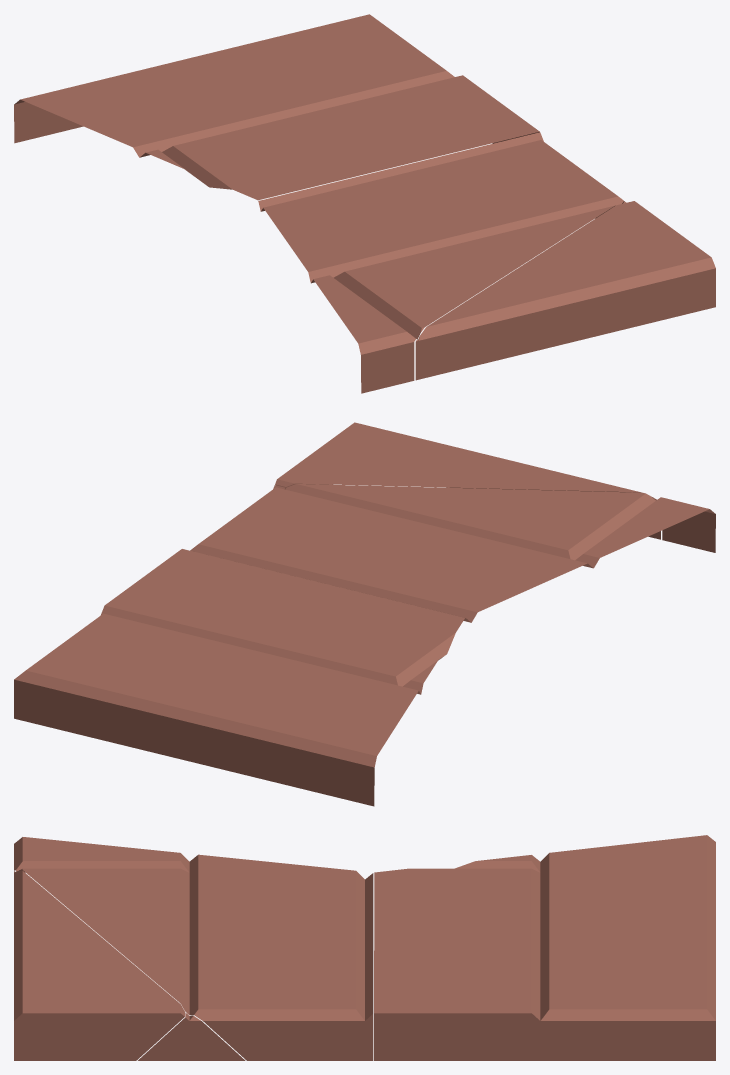
File: floor crack.fbx
3 views of the same model, one above another, from view 1: azimuth 30°, elevation 25°; view 2: azimuth 150°, elevation 25°; view 3: azimuth 270°, elevation 25° (orthographic). The views are drawn at different scales.
Parts seen in each view (by area): view 1: floor_wood_small_cell.002, floor_wood_small_cell.001, floor_wood_small_cell; view 2: floor_wood_small_cell.002, floor_wood_small_cell.001, floor_wood_small_cell; view 3: floor_wood_small_cell.002, floor_wood_small_cell.001, floor_wood_small_cell, floor_wood_small_cell.004.
Boxes of the visible parts, x1,y1,x2,y2 form: floor_wood_small_cell.002: [14, 14, 539, 200]; floor_wood_small_cell.001: [258, 132, 623, 393]; floor_wood_small_cell: [415, 201, 715, 380]; floor_wood_small_cell.002: [14, 549, 464, 806]; floor_wood_small_cell.001: [190, 484, 715, 622]; floor_wood_small_cell: [275, 422, 660, 539]; floor_wood_small_cell.002: [374, 835, 715, 1060]; floor_wood_small_cell.001: [14, 837, 373, 1060]; floor_wood_small_cell: [14, 870, 184, 1060]; floor_wood_small_cell.004: [138, 1012, 245, 1060].
Bounding box in the file's own units: 121 × 15 × 200.
